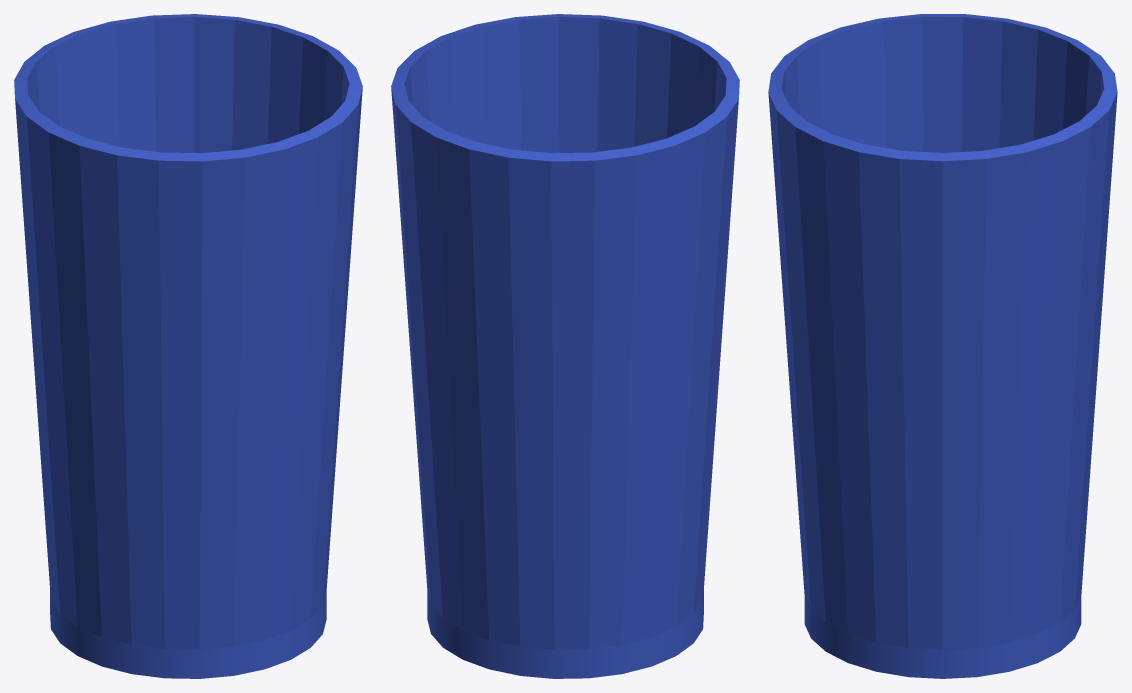
The model's file is oglass_blue.FBX.
3 views of the same model, side by side, from view 1: azimuth 30°, elevation 25°; view 2: azimuth 150°, elevation 25°; view 3: azimuth 270°, elevation 25° (orthographic).
Parts seen in each view (by area): view 1: Cylinder004; view 2: Cylinder004; view 3: Cylinder004.
Part boxes in pixels (left/top/right/bottom): Cylinder004: left=14, top=14, right=362, bottom=678; Cylinder004: left=391, top=14, right=739, bottom=678; Cylinder004: left=768, top=14, right=1117, bottom=678.
Size of the model in its own units: 24.41 by 24.45 by 41.53.
Materials: 1 (1 with a texture image).
